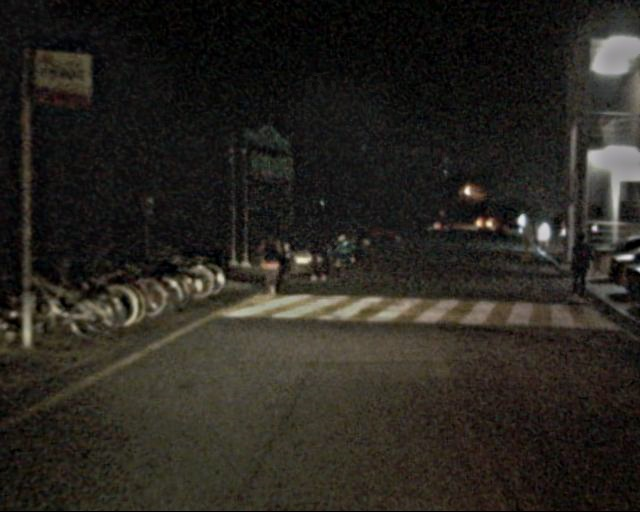person: (255, 228, 285, 302), (565, 236, 595, 308), (308, 222, 332, 280)
